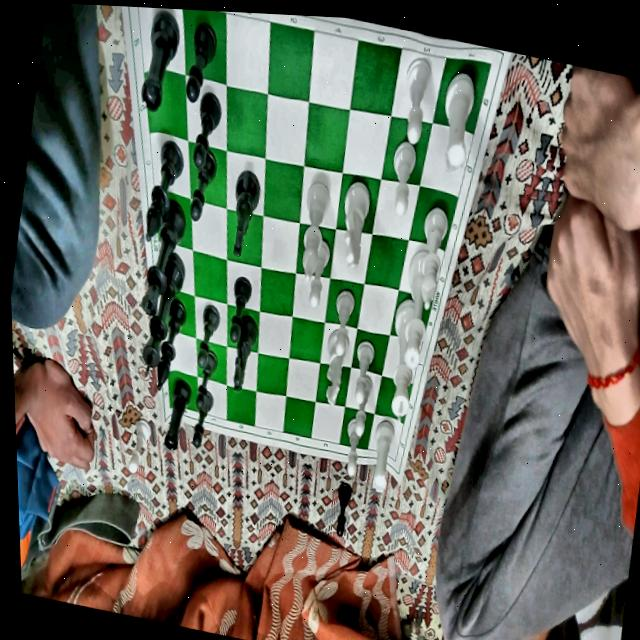BlackBishop: (136, 138, 190, 253), (149, 295, 192, 398)
BlackKing: (130, 249, 192, 386)
BlackKnight: (223, 170, 265, 261), (222, 308, 263, 395)
BlackPawn: (180, 19, 224, 108), (184, 91, 227, 172), (185, 147, 223, 228), (223, 275, 256, 346), (191, 303, 223, 373), (190, 344, 222, 412), (187, 389, 216, 452), (328, 480, 355, 541)
BlackQueen: (132, 195, 193, 323)
BlackRook: (134, 7, 188, 118), (159, 374, 196, 454)
WhiteBishop: (411, 200, 455, 313), (292, 177, 337, 284)
WhiteKing: (378, 293, 428, 426)
WhiteKnight: (333, 176, 377, 272), (317, 329, 355, 412)
WhitePawn: (395, 56, 436, 148), (384, 135, 423, 222), (303, 237, 336, 310), (328, 287, 359, 359), (124, 413, 155, 481), (349, 337, 380, 404), (346, 375, 377, 440), (338, 418, 366, 479)
WhiteQueen: (393, 244, 442, 376)
WhiteRook: (434, 69, 481, 175), (366, 417, 399, 496)
